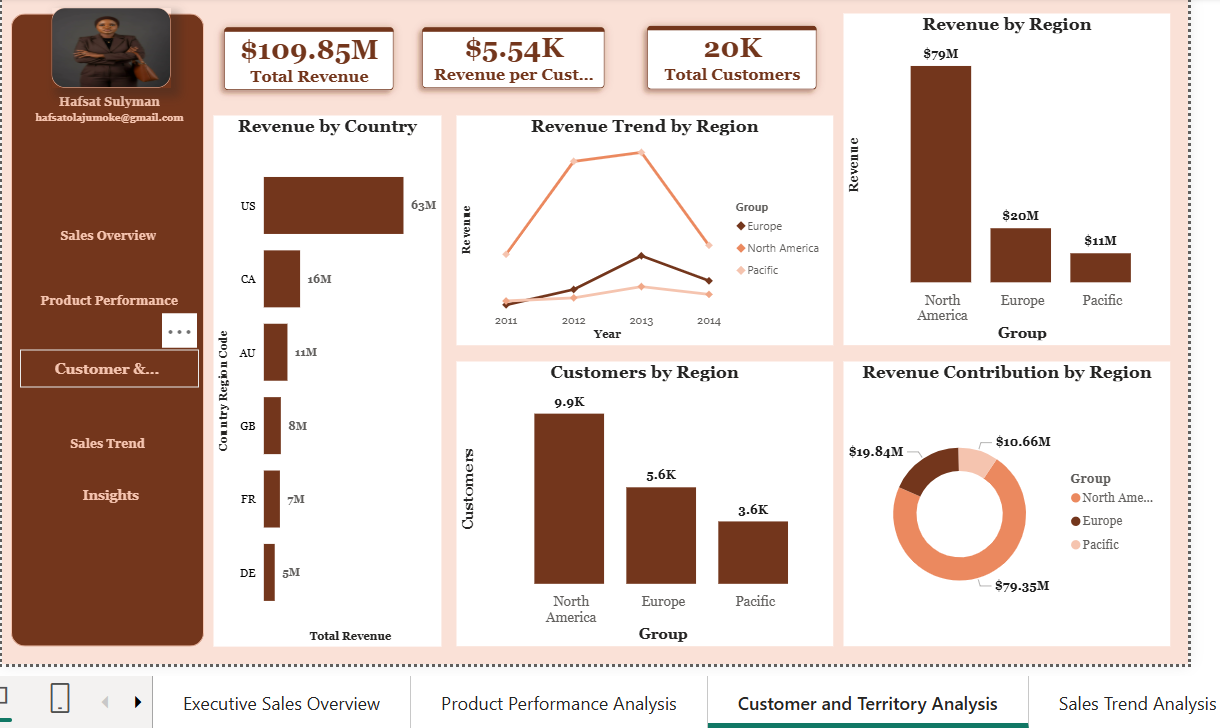

The dashboard page shown, as its layout file describes it:
{"tool":"powerbi","page":{"name":"Customer and Territory Analysis","canvas":[1280,720],"ordinal":2},"visuals":[{"type":"cardVisual","fields":{"Data":["Sales Customer.Total Customers"]},"box":[667.1,1.6,241.3,127.9],"z":0},{"type":"clusteredColumnChart","title":"Customers by Region","fields":{"Category":["Sales SalesTerritory.Group"],"Y":["Count(Sales SalesOrderHeader.CustomerID)"]},"box":[490.6,393.5,406.4,307.7],"z":1000},{"type":"clusteredColumnChart","title":"Revenue by Region","fields":{"Category":["Sales SalesTerritory.Group"],"Y":["Sales SalesOrderDetail.Total Revenue"]},"box":[908.4,17.8,353,357.8],"z":2000},{"type":"donutChart","title":"Revenue Contribution by Region","fields":{"Category":["Sales SalesTerritory.Group"],"Y":["Sales SalesOrderDetail.Total Revenue"]},"box":[908.4,393.5,353,307.7],"z":3000},{"type":"lineChart","title":"Revenue Trend by Region","fields":{"Series":["Sales SalesTerritory.Group"],"Y":["Sales SalesOrderDetail.Total Revenue"],"Category":["Sales SalesOrderHeader.OrderDate.Variation.Date Hierarchy.Year"]},"box":[490.6,127.9,406.4,247.7],"z":4000},{"type":"clusteredBarChart","title":"Revenue by Country","fields":{"Category":["Sales SalesTerritory.CountryRegionCode"],"Y":["Sales SalesOrderDetail.Total Revenue"]},"box":[228.3,127.9,246.1,573.2],"z":5000},{"type":"cardVisual","fields":{"Data":["Sales SalesOrderDetail.Total Revenue"]},"box":[210.5,3.2,241.3,126.3],"z":6000},{"type":"cardVisual","fields":{"Data":["Sales SalesOrderDetail.Average Revenue per Customer"]},"box":[424.2,3.2,255.8,124.7],"z":7000},{"type":"shape","box":[10,18.3,208.3,683.3],"z":7001},{"type":"textbox","box":[48.3,96.7,135,31.7],"z":7002},{"type":"image","box":[53.3,11.7,128.3,86.7],"z":7003},{"type":"textbox","box":[30,113.3,176.7,28.3],"z":7004},{"type":"actionButton","box":[19.4,307.7,192.7,40.5],"z":7005},{"type":"actionButton","box":[19.4,380.5,192.7,40.5],"z":7006},{"type":"actionButton","box":[17.8,463.1,192.7,38.9],"z":7007},{"type":"actionButton","box":[17.8,238,194.3,38.9],"z":7008}]}

Visuals, with their boxes on the page's 1280x720 design canvas (x1, y1, x2, y2). These are canvas units, not pixel positions in the 1220x728 screenshot, which may show the page scaled, cropped or inside an application window:
cardVisual - Sales Customer.Total Customers: (x1=667, y1=2, x2=908, y2=130)
"Customers by Region" clusteredColumnChart: (x1=491, y1=394, x2=897, y2=701)
"Revenue by Region" clusteredColumnChart: (x1=908, y1=18, x2=1261, y2=376)
"Revenue Contribution by Region" donutChart: (x1=908, y1=394, x2=1261, y2=701)
"Revenue Trend by Region" lineChart: (x1=491, y1=128, x2=897, y2=376)
"Revenue by Country" clusteredBarChart: (x1=228, y1=128, x2=474, y2=701)
cardVisual - Sales SalesOrderDetail.Total Revenue: (x1=210, y1=3, x2=452, y2=130)
cardVisual - Sales SalesOrderDetail.Average Revenue per Customer: (x1=424, y1=3, x2=680, y2=128)
shape: (x1=10, y1=18, x2=218, y2=702)
textbox: (x1=48, y1=97, x2=183, y2=128)
image: (x1=53, y1=12, x2=182, y2=98)
textbox: (x1=30, y1=113, x2=207, y2=142)
actionButton: (x1=19, y1=308, x2=212, y2=348)
actionButton: (x1=19, y1=380, x2=212, y2=421)
actionButton: (x1=18, y1=463, x2=210, y2=502)
actionButton: (x1=18, y1=238, x2=212, y2=277)
